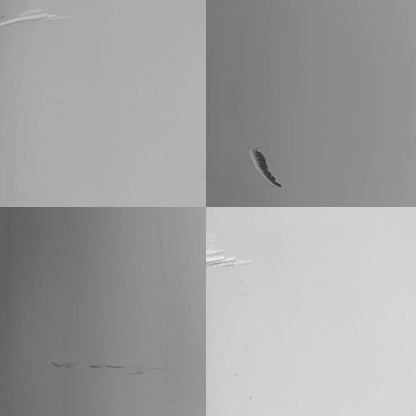kongdong: (250, 144, 284, 189)
sunshang: (204, 230, 250, 272), (1, 8, 72, 28)
